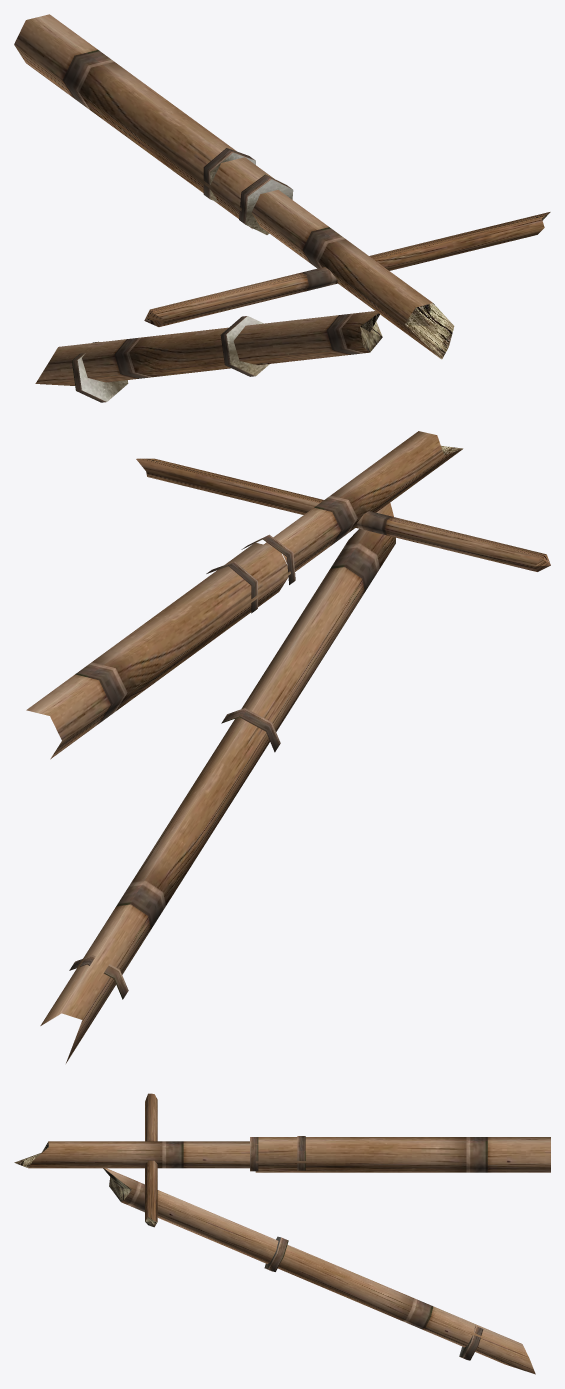
3 views of the same model, one above another, from view 1: azimuth 30°, elevation 25°; view 2: azimuth 150°, elevation 25°; view 3: azimuth 270°, elevation 25° (orthographic). The views are drawn at different scales.
Visible parts, largest first — view 1: model_Object16; view 2: model_Object16; view 3: model_Object16.
Part boxes in pixels (x1,y1,x2,y2): model_Object16: [14, 14, 550, 402]; model_Object16: [26, 431, 550, 1063]; model_Object16: [14, 1093, 550, 1374].
Bounding box in the file's own units: 3.24 × 2.74 × 5.66.
3 materials, 3 textured.
